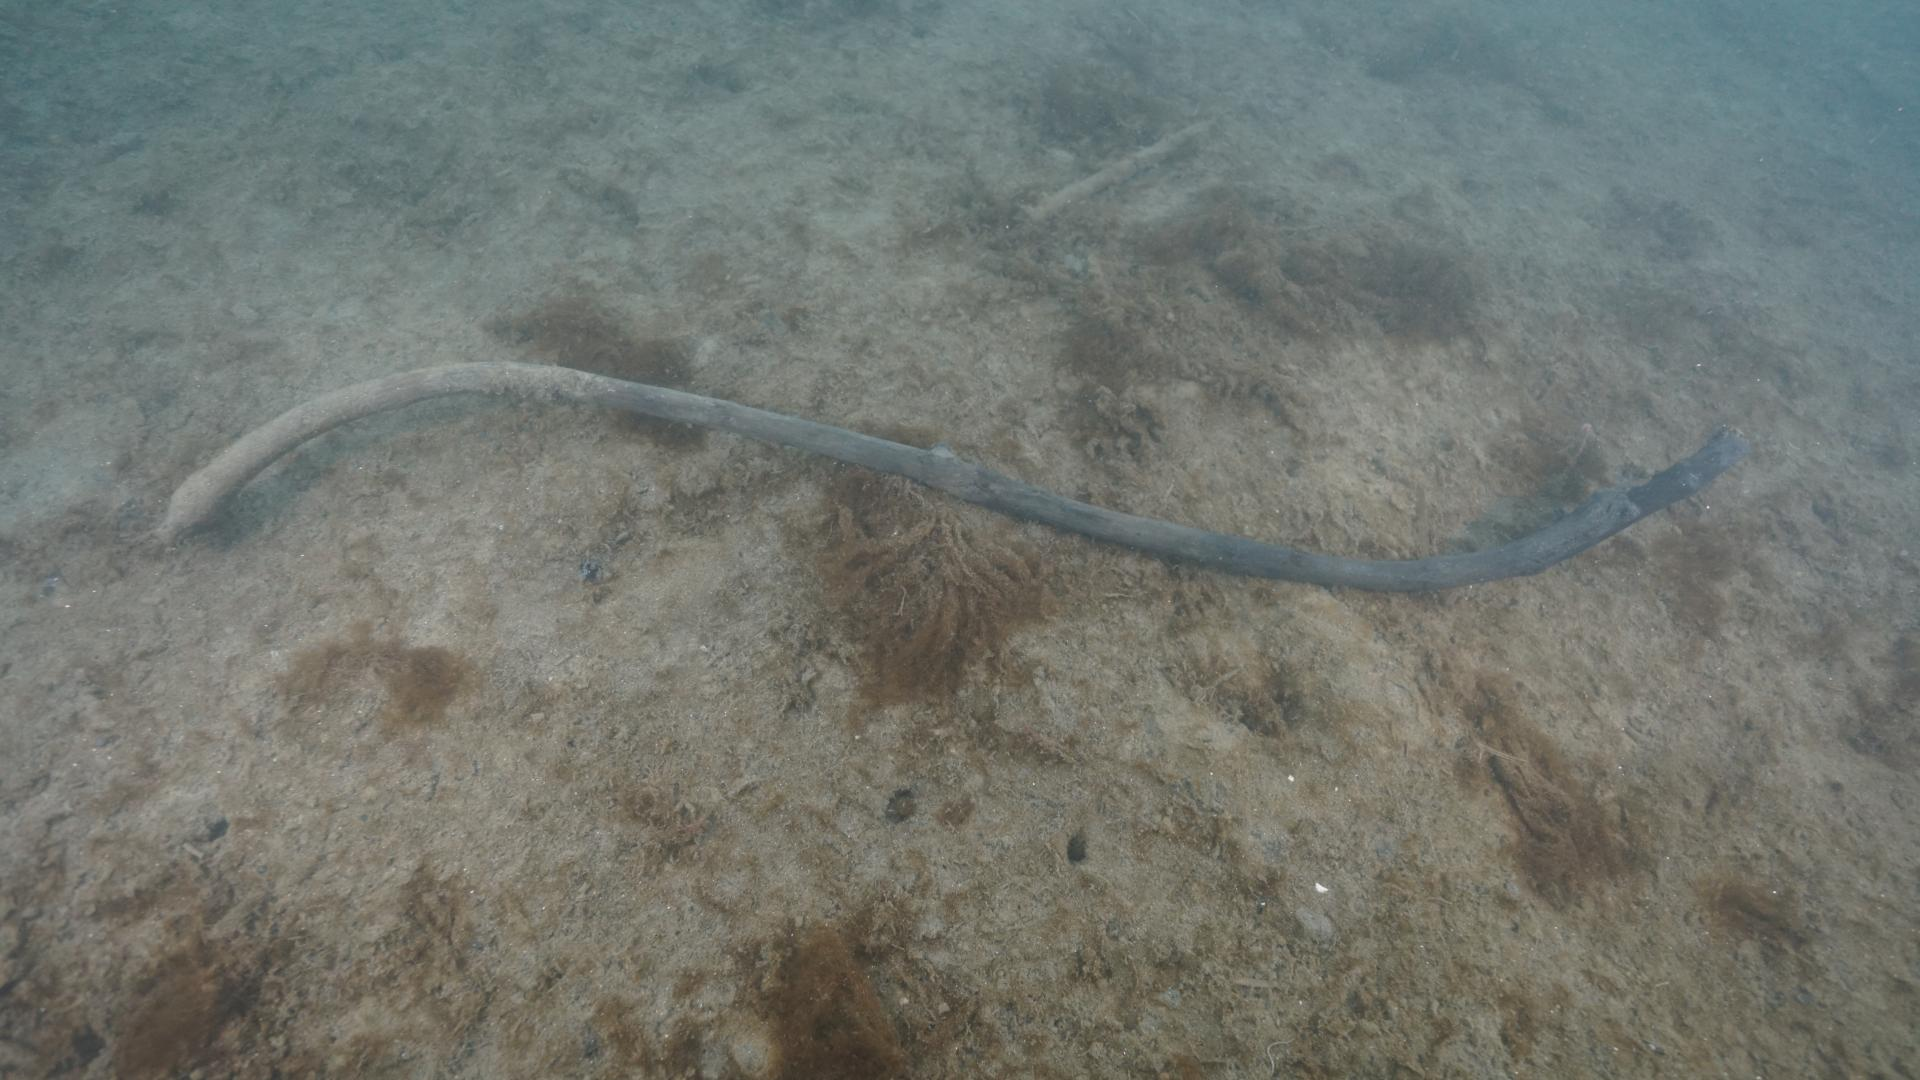wood: (146, 357, 1741, 589)
